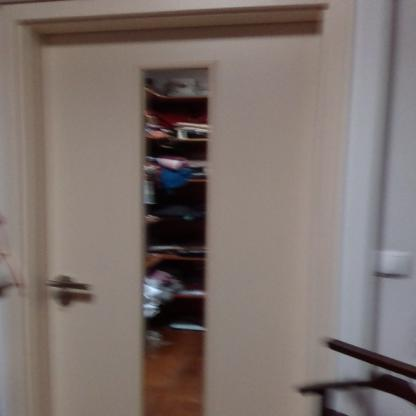door: (40, 36, 315, 416)
lever: (46, 276, 92, 292)
